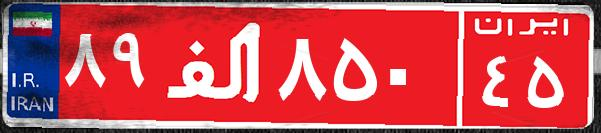0: (385, 28, 445, 110)
4: (475, 38, 525, 113)
5: (330, 28, 385, 110), (525, 38, 570, 115)
8: (273, 28, 330, 110), (57, 26, 110, 107)
9: (110, 28, 158, 105)
الف: (158, 15, 273, 115)
